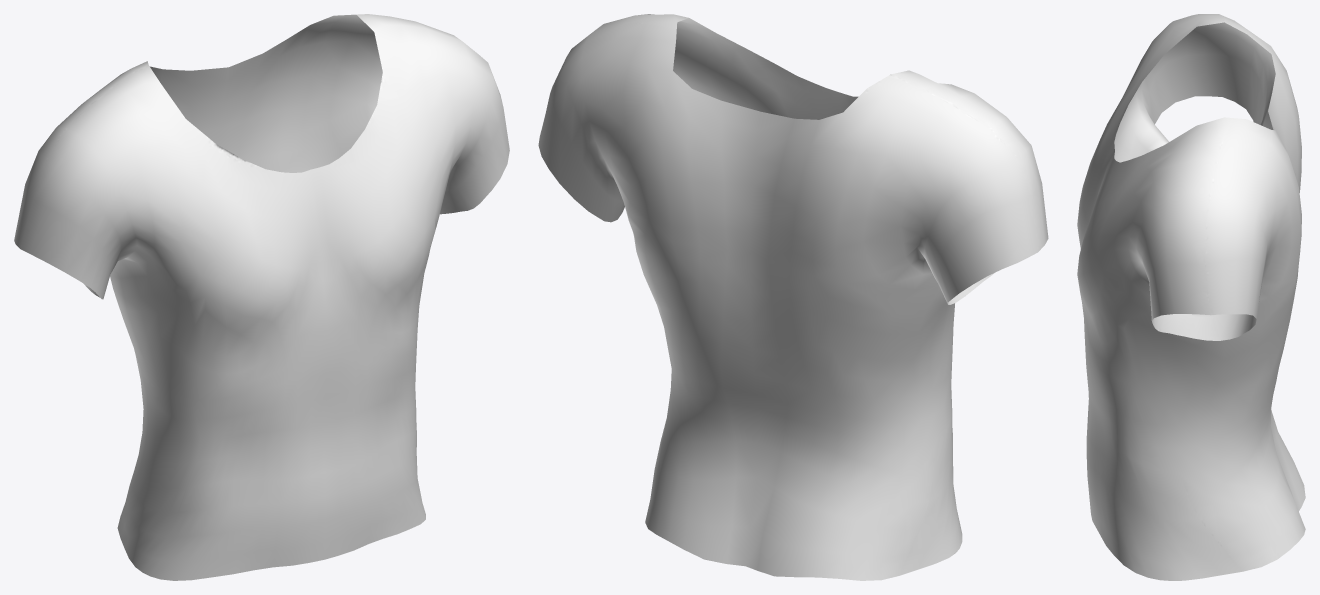
File: elvs-crude-t-shirt-male.glb
The picture shows the model from 3 angles, left to right: view 1: azimuth 30°, elevation 25°; view 2: azimuth 150°, elevation 25°; view 3: azimuth 270°, elevation 25°; orthographic projection. The views are drawn at different scales.
Visible parts, largest first — view 1: Human.elvs_crude_t-shirt_male; view 2: Human.elvs_crude_t-shirt_male; view 3: Human.elvs_crude_t-shirt_male.
Part boxes in pixels (x1,y1,x2,y2): Human.elvs_crude_t-shirt_male: (14,14,509,580); Human.elvs_crude_t-shirt_male: (538,14,1048,580); Human.elvs_crude_t-shirt_male: (1077,14,1305,580).
Bounding box in the file's own units: 0.5802 × 0.5524 × 0.2555.
1 material, 1 textured.
